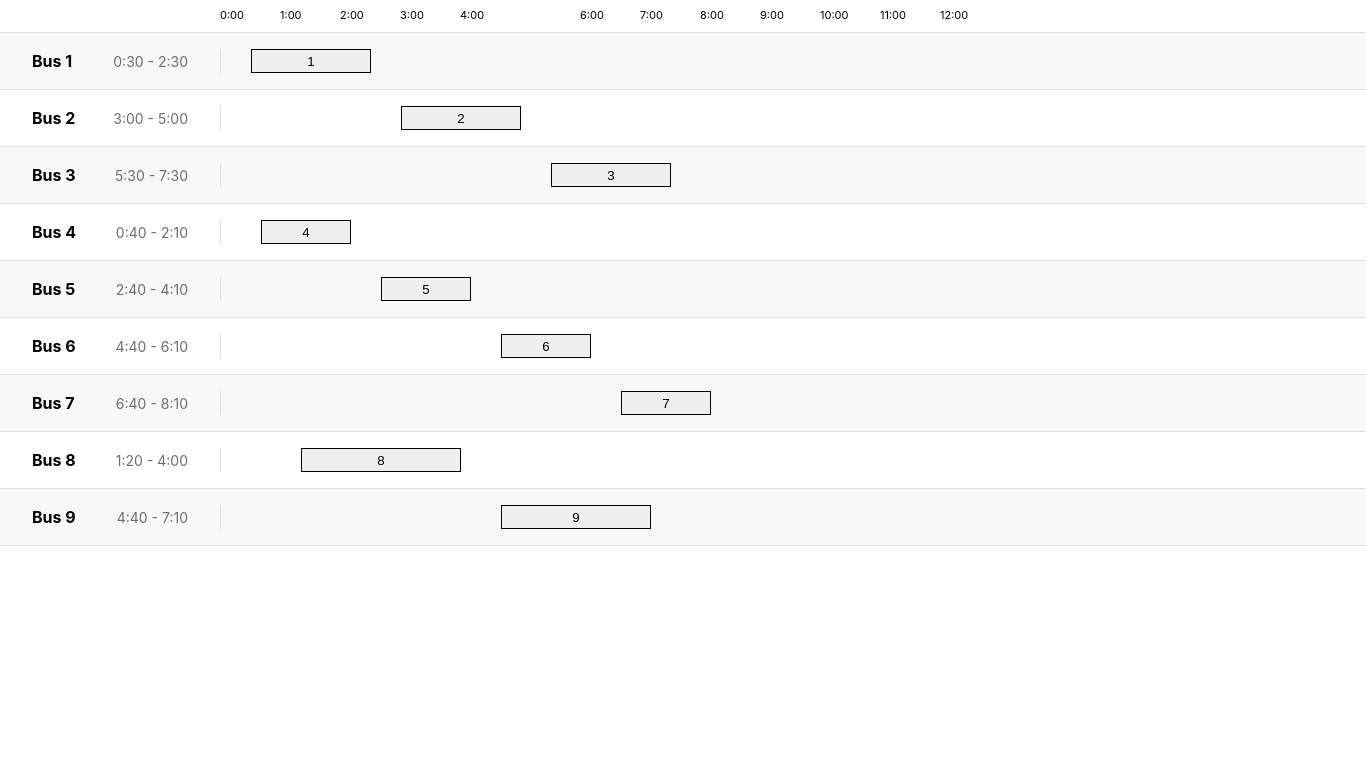
Test: moves the first trip to the second bus
Click the button with test id "button-trip" showing "1".
click(311, 61)  # box [251,49,371,73]
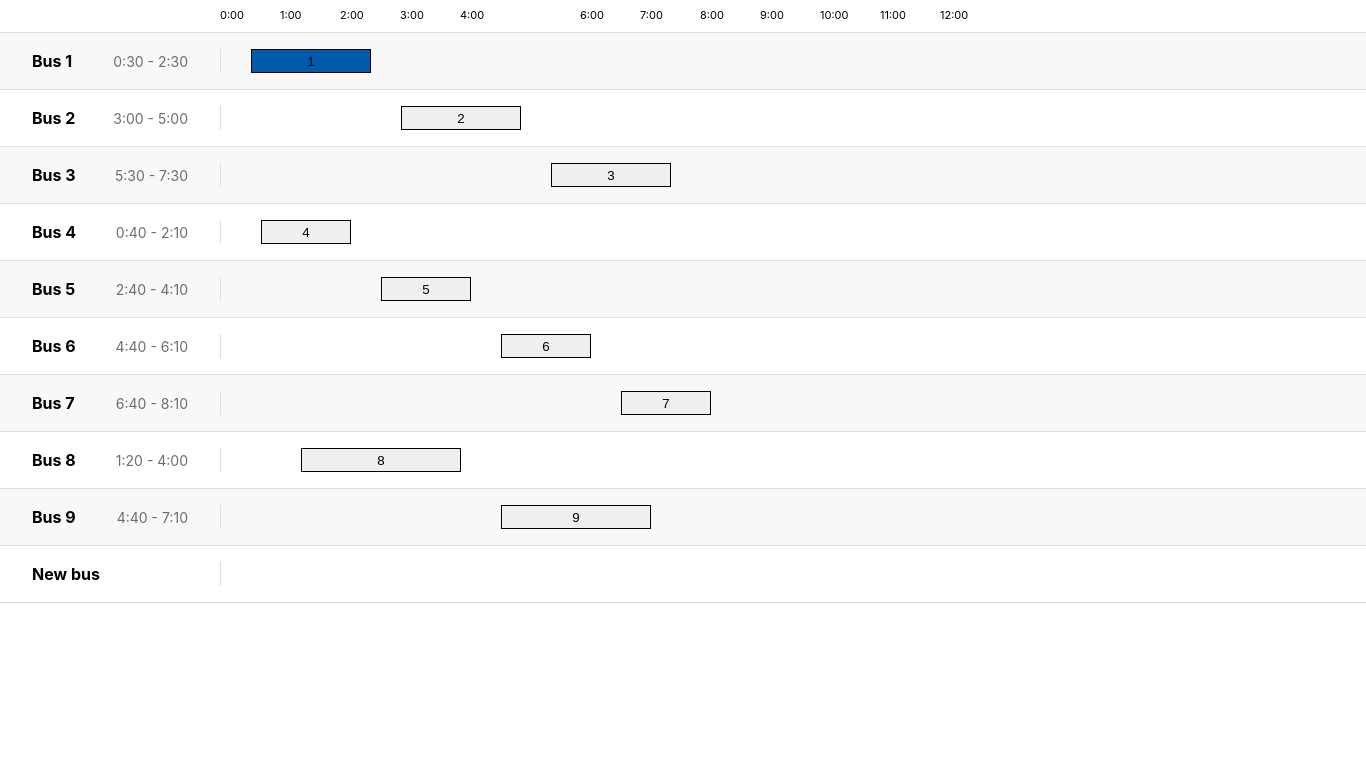
expect the button with test id "button-trip" showing "1" has style "background-color: #015baa": met, box [251,49,371,73]
Click the element with test id "bus-row" showing "Bus 2 3:00 - 5:00".
click(683, 118)  # box [0,90,1365,147]
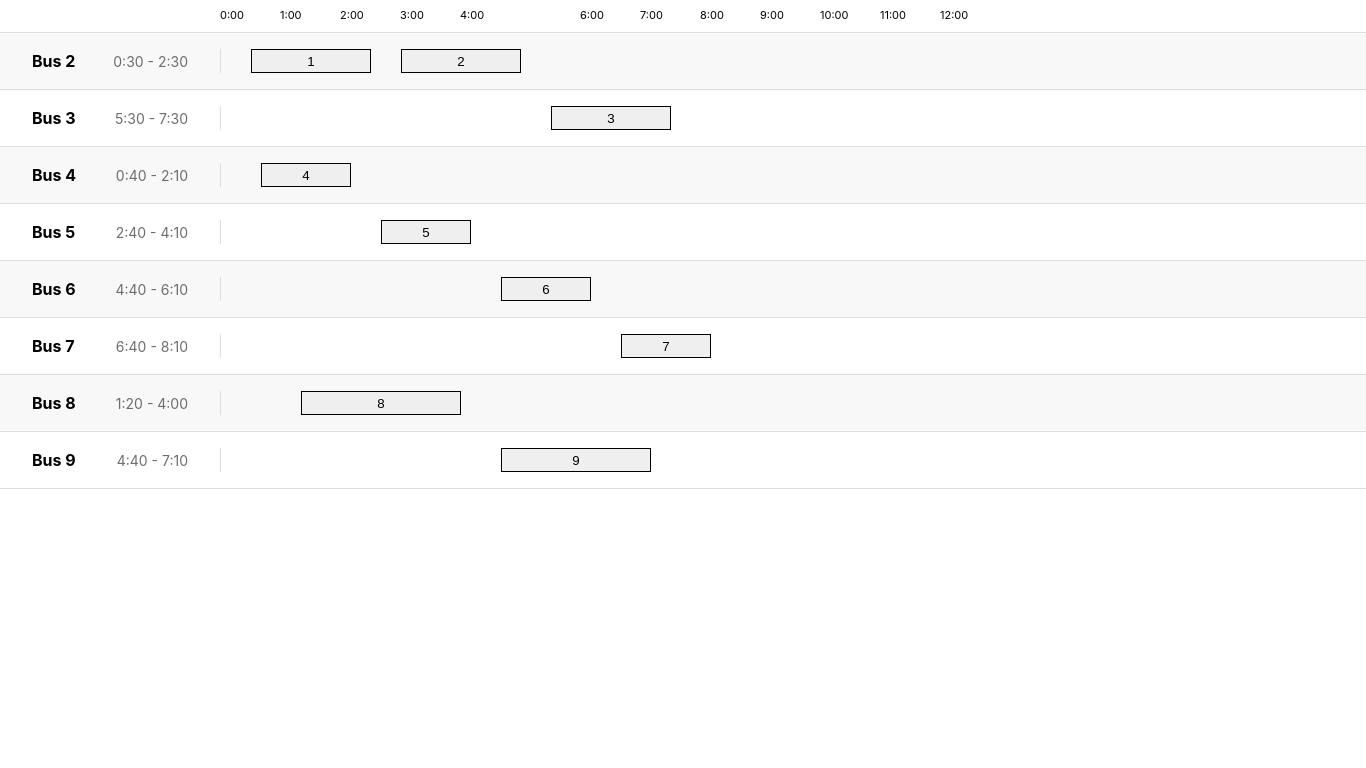
expect the number of elements with test id "bus-row" is 8: met
